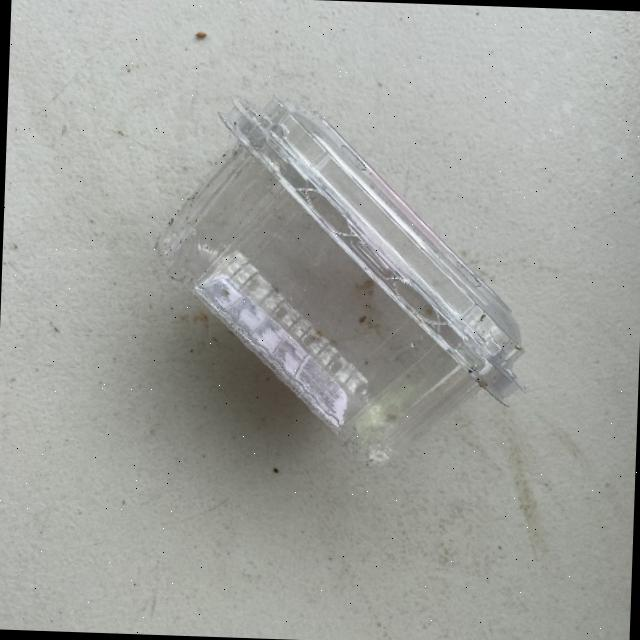plastic: (148, 90, 534, 470)
